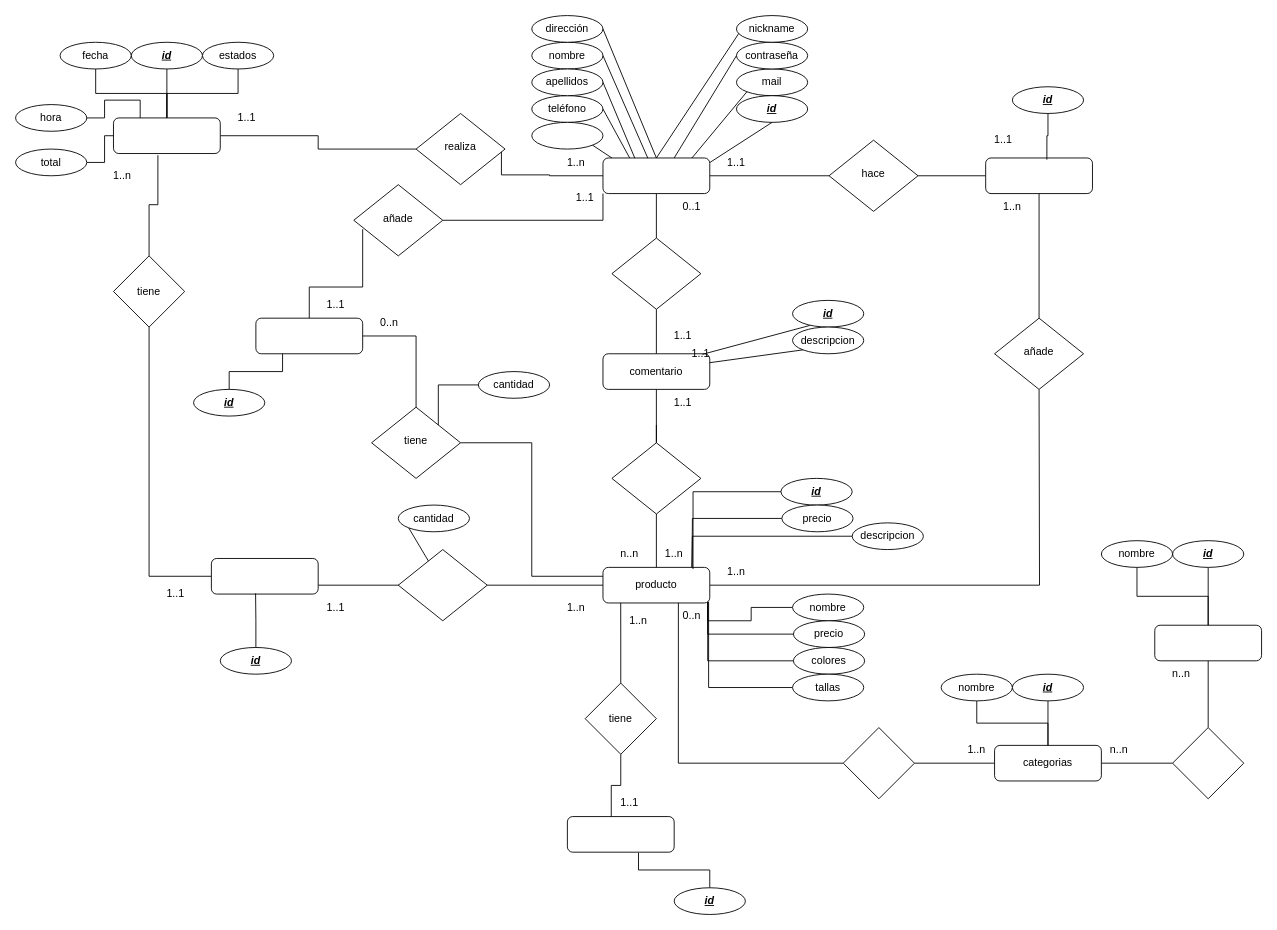
The diagram is 1277 pixels wide and 930 high, and some of its shapes have lost their labels. Here are the shapes that lost their labels. From the top down, the centre of each, then its label:
(x=166, y=135): pedidos
(x=567, y=135): rol
(x=656, y=175): usuario
(x=1038, y=175): listaDeseos
(x=656, y=273): escribe
(x=309, y=335): carrito
(x=656, y=478): pertenece
(x=264, y=576): lineasPedios
(x=442, y=585): se compone
(x=1208, y=642): subCategorias
(x=878, y=763): posee
(x=1208, y=763): puede
(x=620, y=834): fotos
